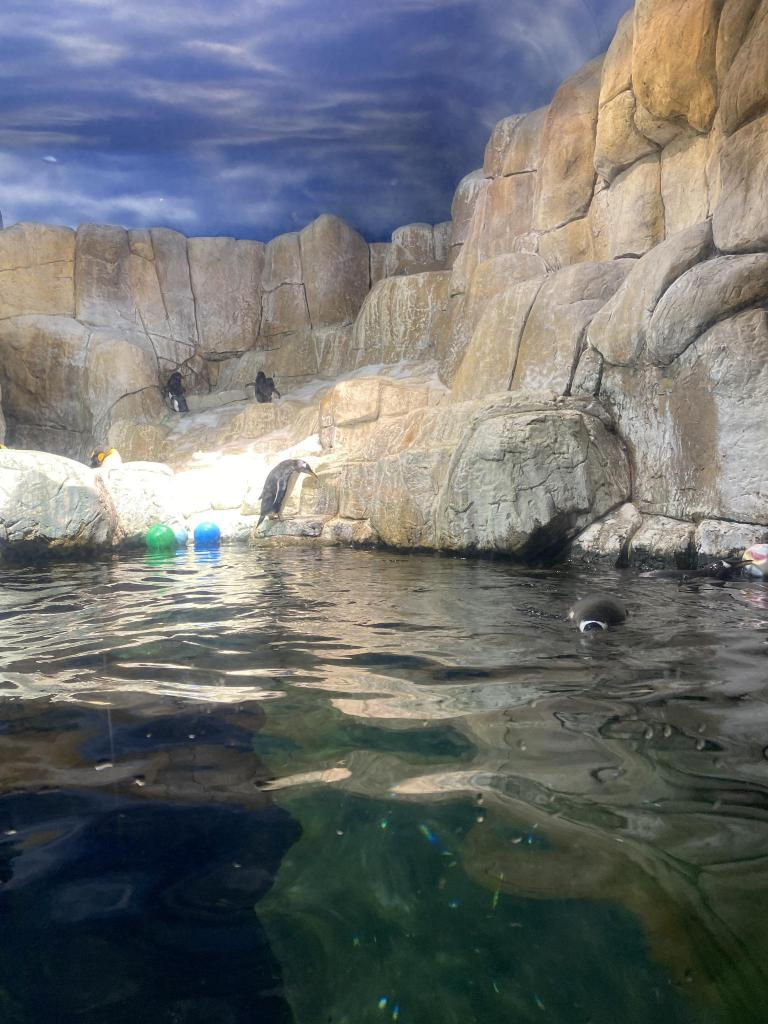penguin: (242, 452, 324, 522), (558, 588, 634, 660), (160, 365, 196, 411), (250, 369, 284, 405), (92, 436, 124, 470)
